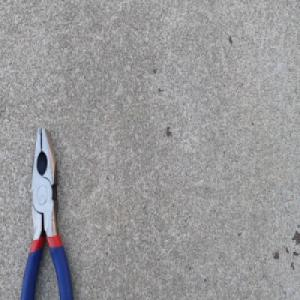Pliers: (20, 123, 73, 300)
